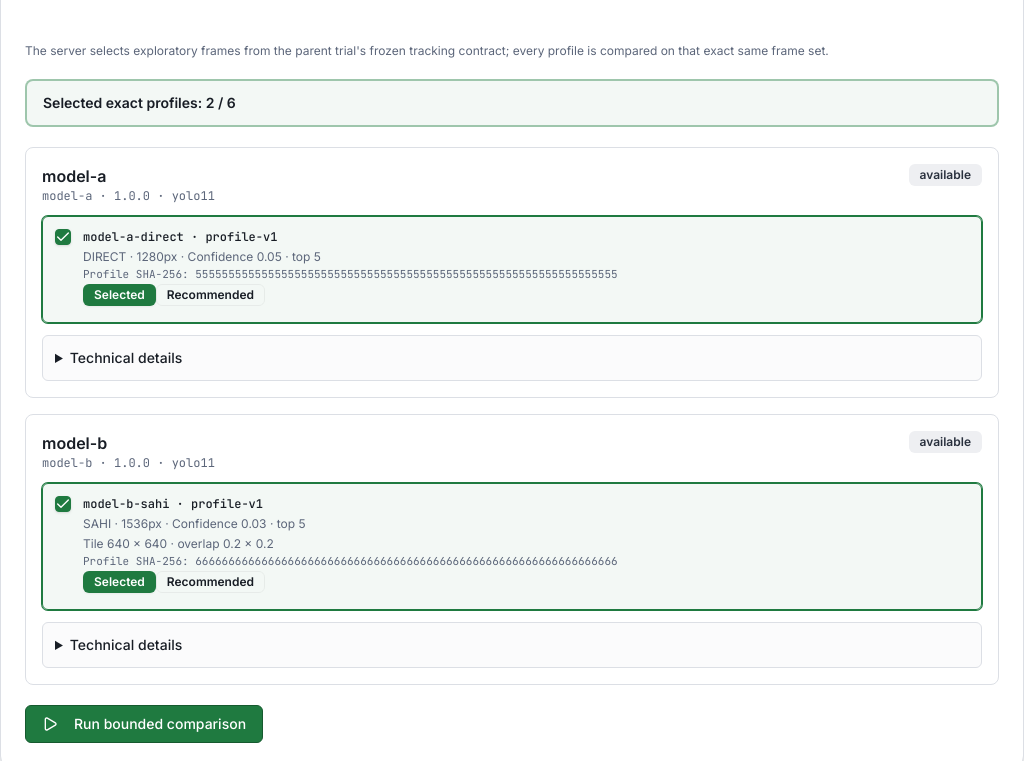
Test: ProductionDetectorProbeController › keeps the exact pending create while showing a typed nested 409
The image size is (1024, 761).
(page scrolled)
Click the button "Run bounded comparison" at (144, 724), box left=25, top=705, right=263, bottom=743
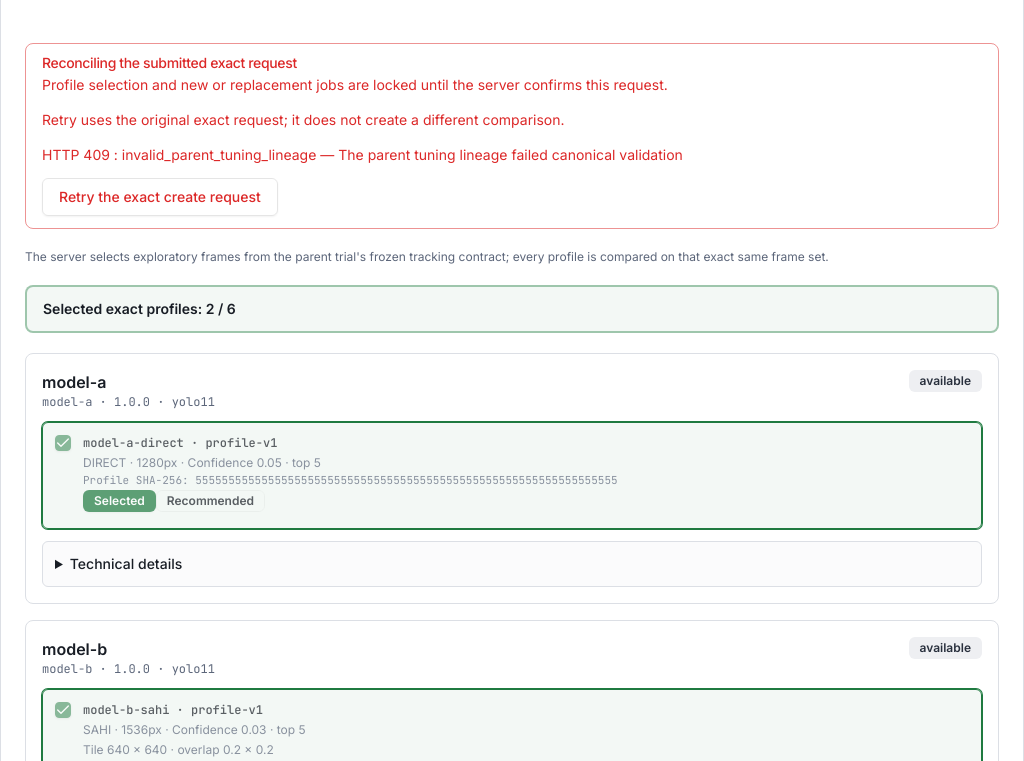
Expected: the message shows "invalid_parent_tuning_lineage", left=42, top=146, right=683, bottom=162
Expected: the message shows "The parent tuning lineage failed canonical validation", left=42, top=146, right=683, bottom=162
Expected: the button "Retry the exact create request" is shown, left=42, top=178, right=278, bottom=216
